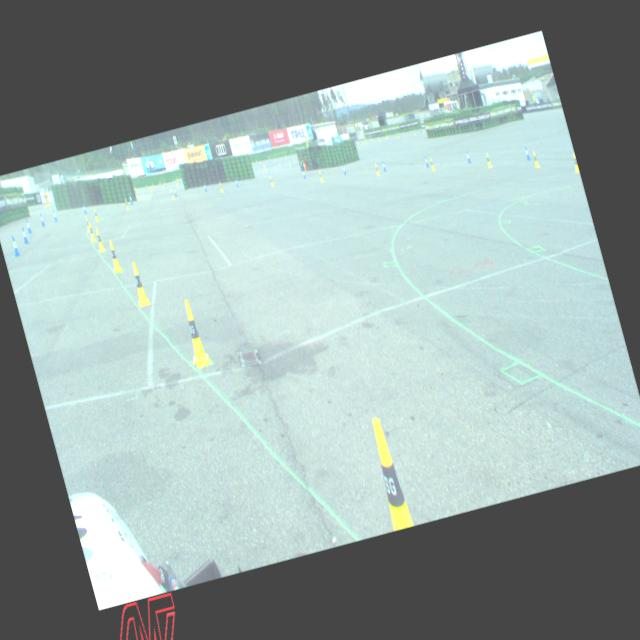blue_cone: (10, 234, 20, 256), (20, 226, 28, 243), (524, 146, 530, 160), (52, 209, 58, 221), (464, 150, 470, 162), (25, 220, 31, 232), (39, 213, 45, 225), (381, 160, 386, 171), (82, 202, 86, 214), (342, 163, 346, 174), (424, 156, 428, 167), (128, 194, 132, 204), (302, 169, 306, 178), (172, 186, 176, 195), (202, 182, 206, 190), (234, 178, 238, 186), (268, 172, 271, 181), (300, 159, 302, 166), (292, 156, 294, 162), (270, 162, 272, 168), (254, 164, 256, 170), (172, 178, 175, 182), (419, 128, 422, 132), (280, 156, 282, 161), (178, 178, 180, 182), (269, 158, 271, 162), (145, 184, 147, 188), (134, 188, 136, 192), (290, 155, 292, 159), (164, 182, 166, 186), (258, 161, 259, 165), (421, 126, 422, 130), (411, 130, 412, 134), (401, 132, 402, 136), (391, 134, 392, 138), (402, 132, 402, 136)
orange_cone: (368, 137, 371, 141), (156, 184, 158, 188), (158, 180, 159, 184)
yellow_cone: (364, 415, 414, 530), (178, 298, 210, 367), (128, 260, 150, 306), (106, 239, 122, 272), (93, 226, 105, 252), (86, 222, 95, 240), (570, 152, 578, 172), (531, 150, 539, 166), (484, 152, 491, 166), (84, 216, 90, 232), (92, 208, 99, 221), (428, 157, 434, 170), (374, 163, 379, 176), (218, 180, 223, 192), (270, 176, 274, 187), (124, 198, 128, 208), (170, 189, 174, 199), (318, 170, 322, 180), (44, 200, 48, 207), (43, 200, 46, 208), (46, 198, 49, 206), (47, 198, 50, 205), (51, 197, 54, 204), (175, 178, 178, 184), (302, 158, 304, 166), (175, 178, 177, 186), (284, 152, 286, 159), (288, 162, 290, 168), (150, 186, 152, 192), (149, 184, 151, 190), (422, 128, 424, 134), (293, 157, 295, 162), (264, 166, 266, 171), (263, 164, 265, 169), (396, 132, 398, 137), (364, 139, 366, 144), (162, 183, 164, 187), (278, 162, 280, 166), (362, 140, 364, 144), (255, 158, 257, 162), (136, 187, 138, 191), (152, 181, 154, 185), (145, 182, 147, 186), (176, 176, 178, 180), (274, 156, 276, 160), (414, 130, 416, 134), (412, 130, 414, 134), (402, 132, 404, 136), (398, 132, 400, 136), (384, 134, 386, 138), (378, 138, 380, 142), (364, 136, 366, 140), (178, 175, 180, 179), (163, 180, 165, 183), (386, 134, 387, 138), (377, 136, 378, 140), (370, 136, 371, 140), (358, 144, 359, 148), (260, 160, 260, 163), (358, 140, 358, 144), (160, 180, 160, 184)
